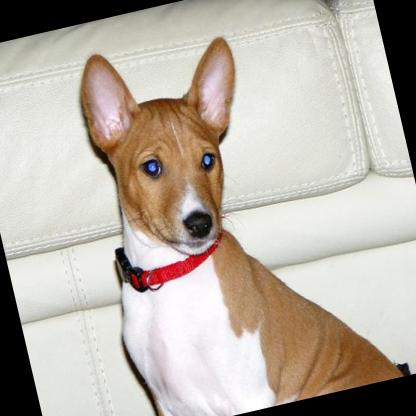basenji: (53, 0, 404, 416)
